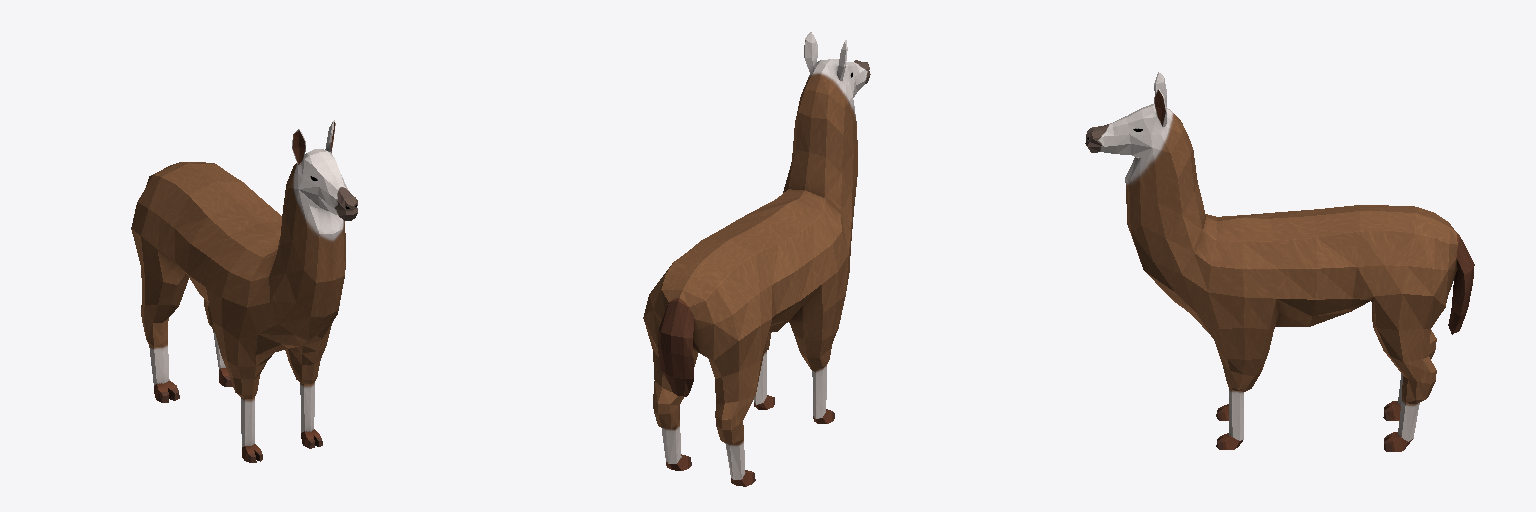
3 views of the same model, side by side, from view 1: azimuth 30°, elevation 25°; view 2: azimuth 150°, elevation 25°; view 3: azimuth 270°, elevation 25° (orthographic).
Parts seen in each view (by area): view 1: Llama_Mesh; view 2: Llama_Mesh; view 3: Llama_Mesh.
Boxes of the visible parts, box(x1,y1,x2,y2) form: Llama_Mesh: box(131, 120, 357, 462); Llama_Mesh: box(643, 32, 870, 486); Llama_Mesh: box(1085, 72, 1474, 451).
Bounding box in the file's own units: 3 × 9.36 × 9.38.
Materials: 1 (1 with a texture image).